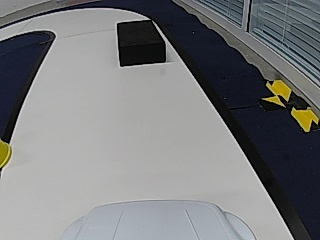block: (116, 19, 166, 66)
cone: (0, 139, 12, 170)
